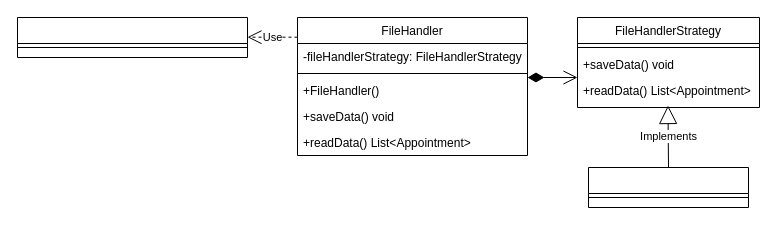
Some shapes in this 777 by 225 pixel diagram are drawn without their labels. The shapes that lost their labels are listed below. From the top down, each one's centre as x and y in pixels, then its label:
[132,37]: Appointment
[668,187]: JsonFileHandlerStrategy
